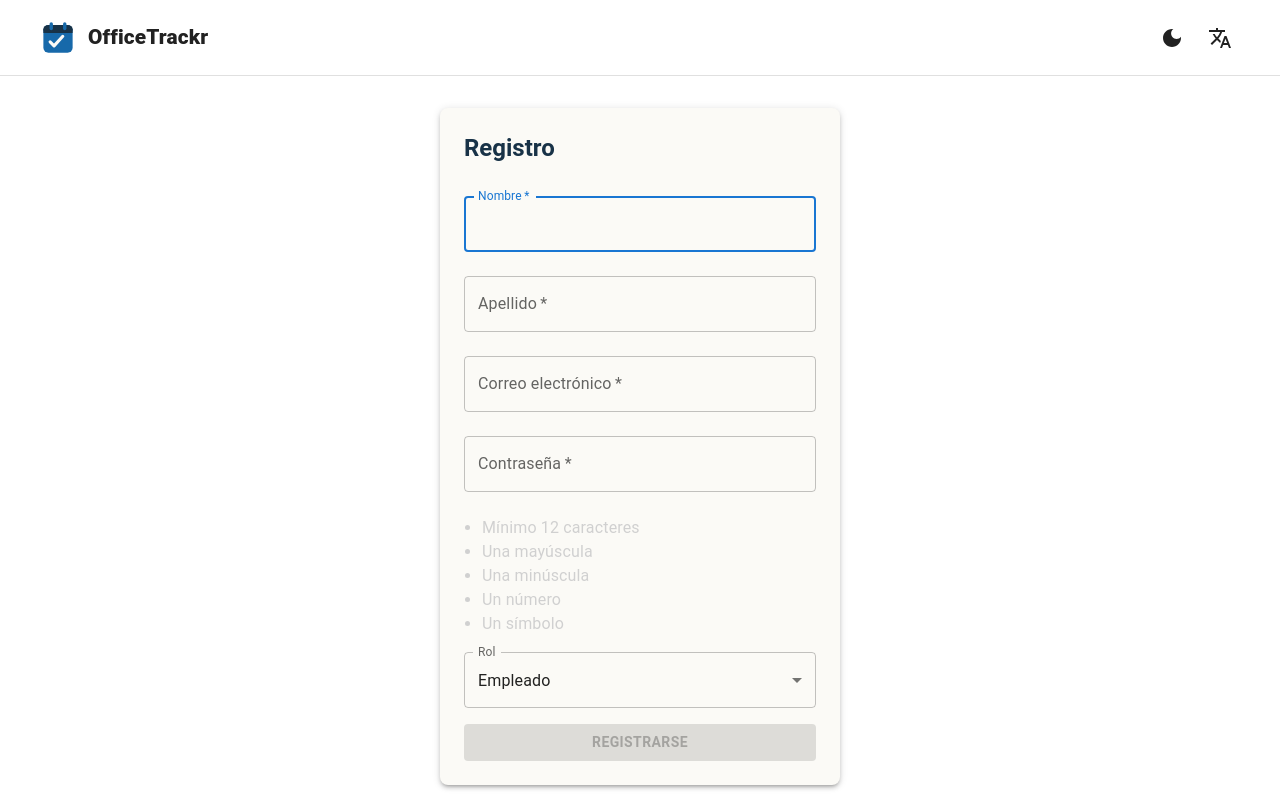
Test: Register › translates a network failure during registration
This screenshot has width=1280, height=800.
Type "John" into the field labelled "Nombre *" at [640, 224], box x1=464 y1=196 x2=816 y2=252
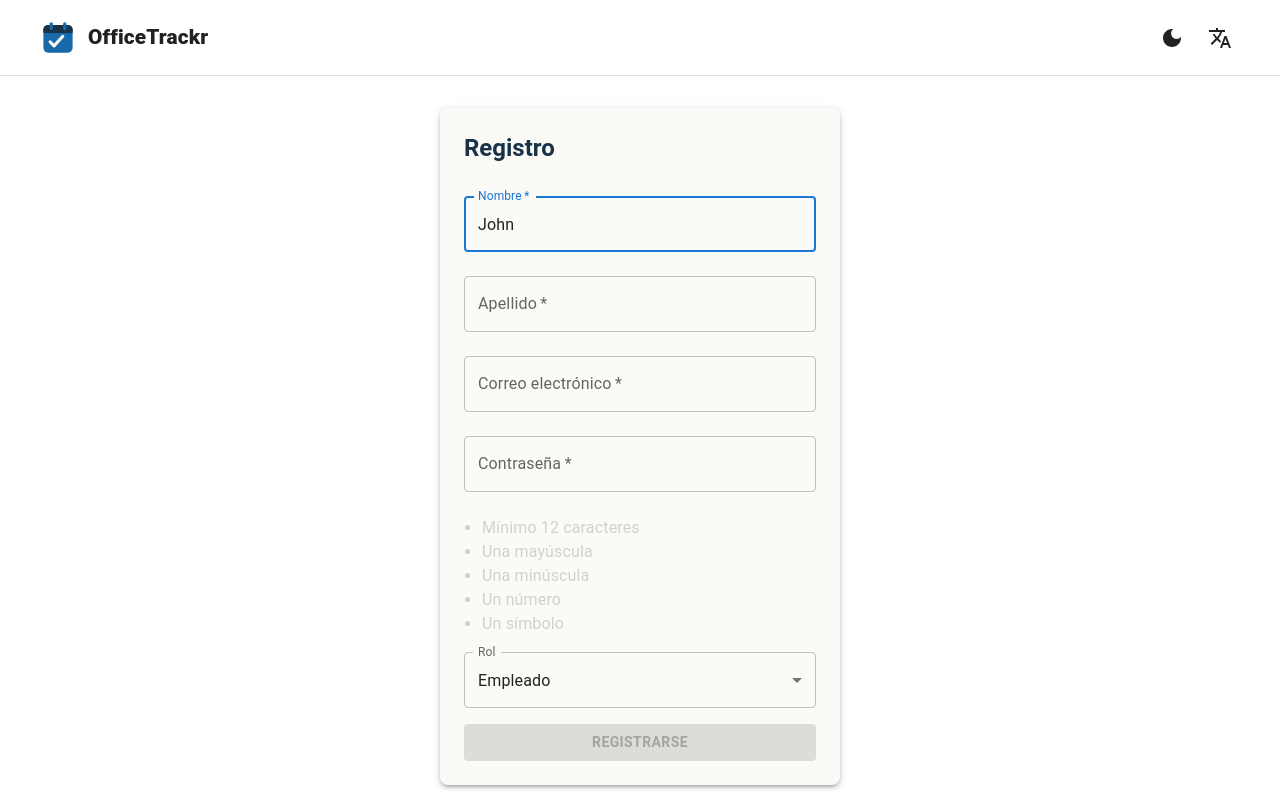
Type "Doe" into the field labelled "Apellido *" at [640, 304], box x1=464 y1=276 x2=816 y2=332
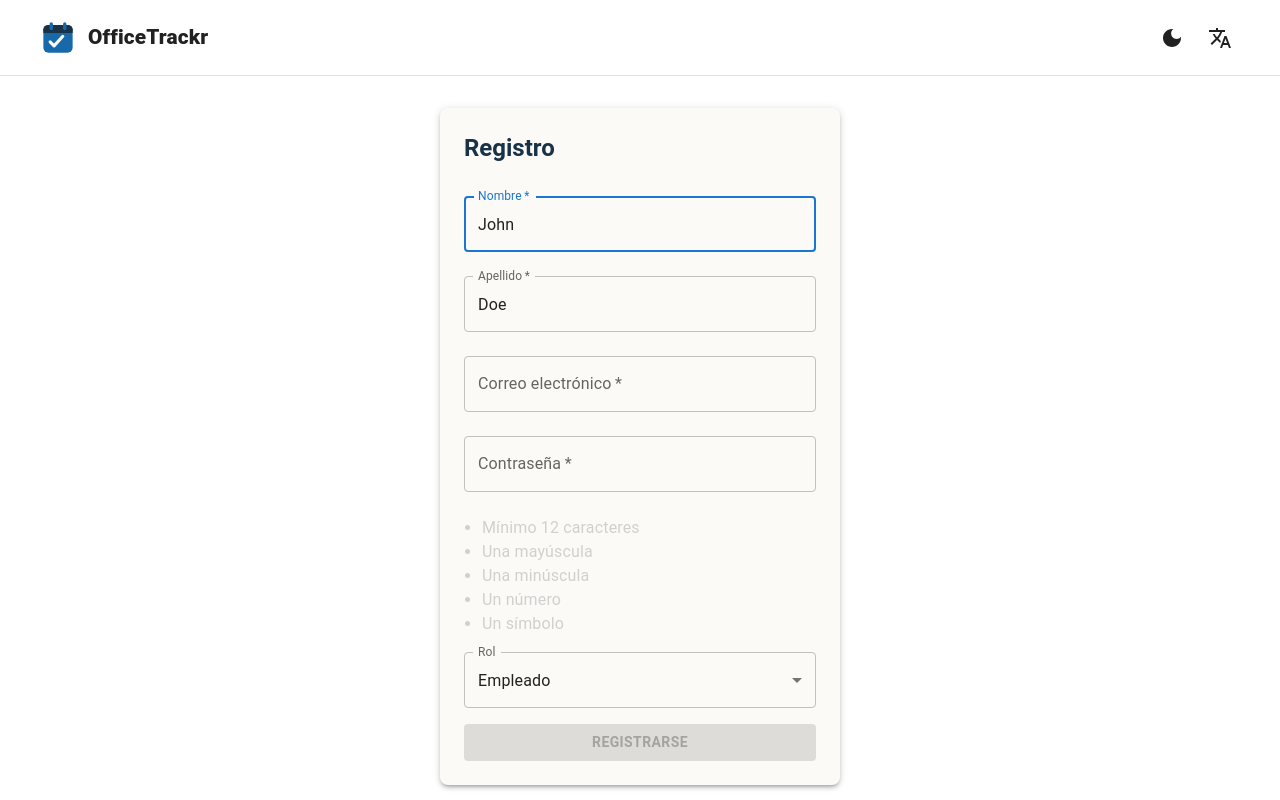
Type "john@example.com" into the field labelled "Correo electrónico *" at [640, 384], box x1=464 y1=356 x2=816 y2=412
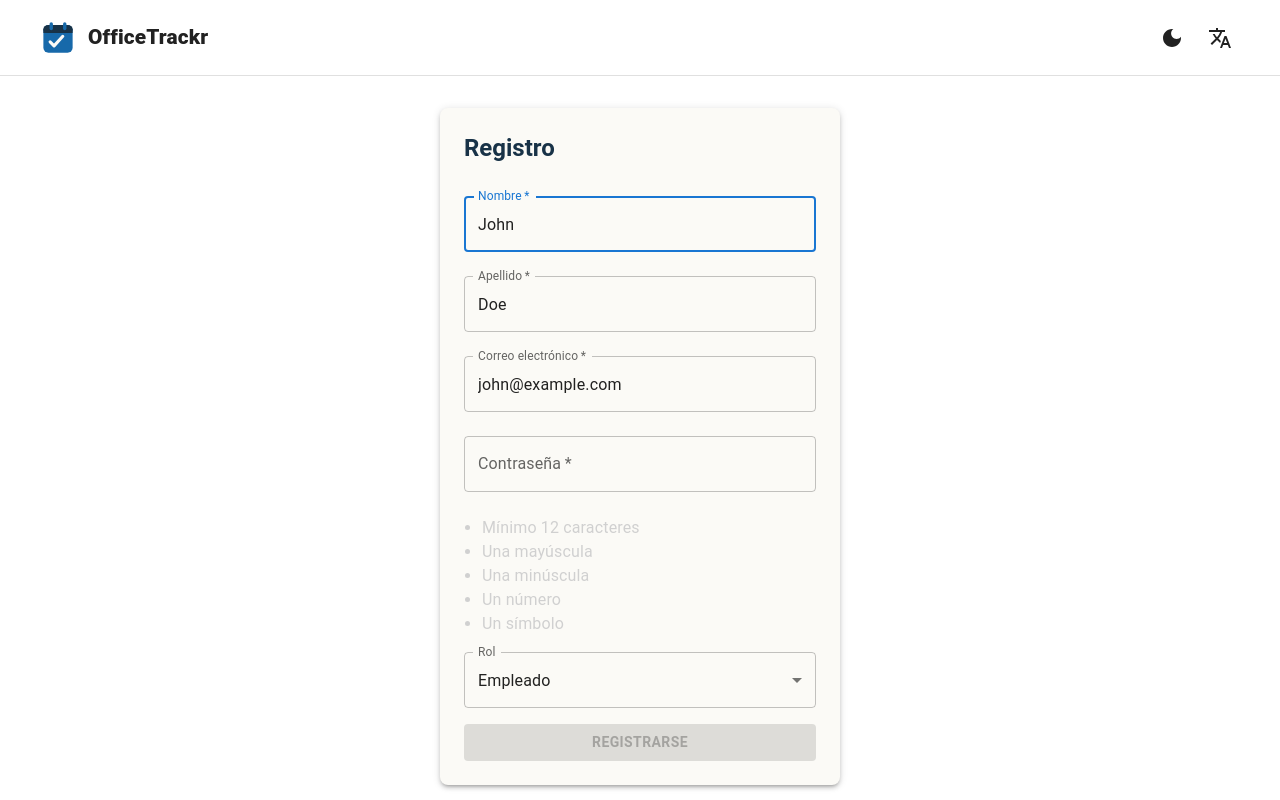
Type "Password123!!" into the password field labelled "Contraseña *" at [640, 464], box x1=464 y1=436 x2=816 y2=492
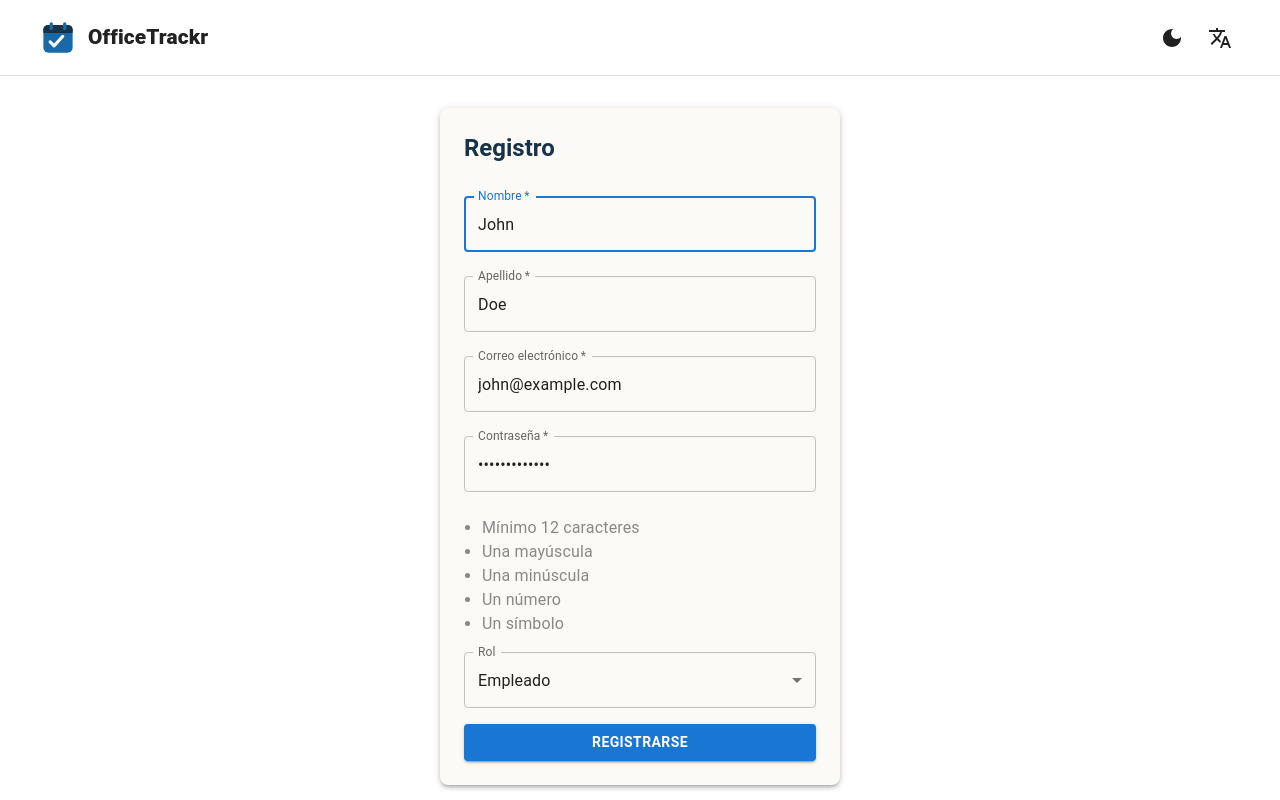
Click the button "Registrarse" at [640, 742], box x1=464 y1=724 x2=816 y2=760
(page scrolled)
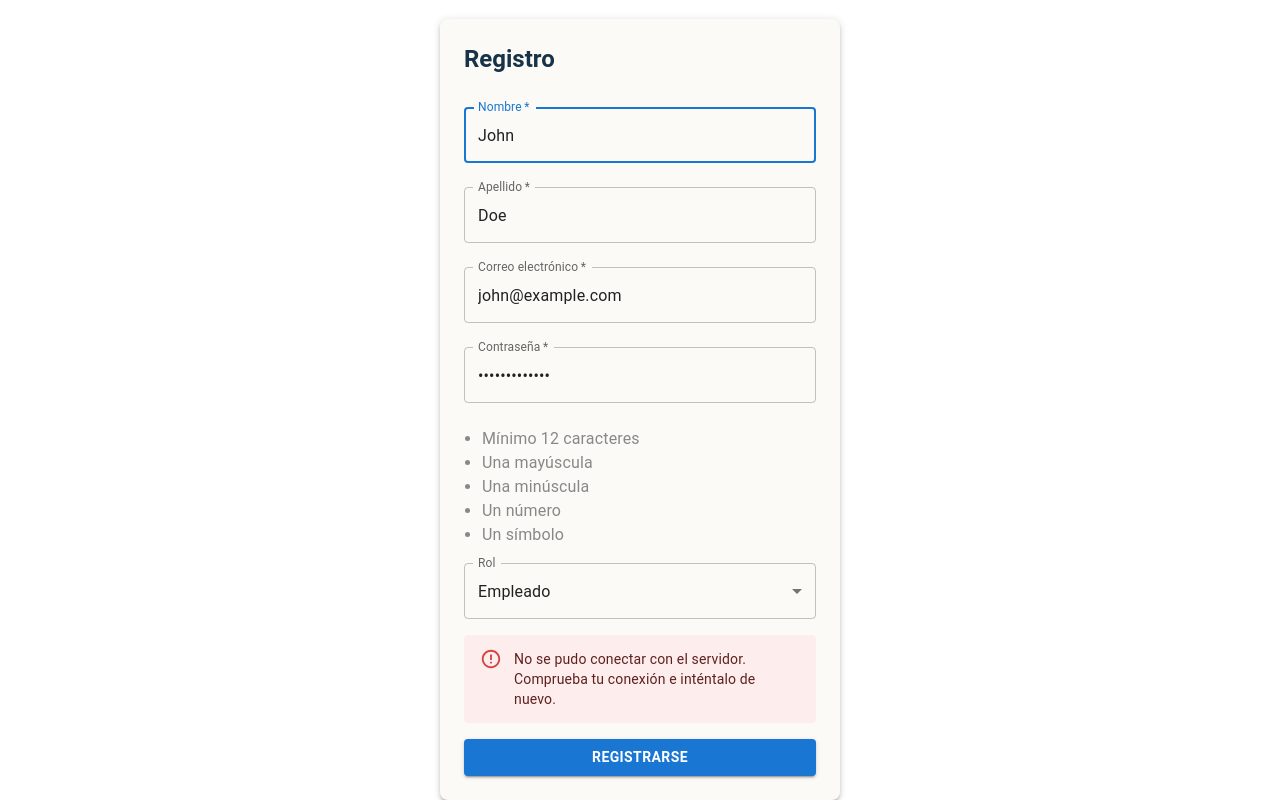
Check: the text "No se pudo conectar con el servidor. Comprueba tu conexión e inténtalo de nuevo." is shown, box x1=514 y1=651 x2=755 y2=707
